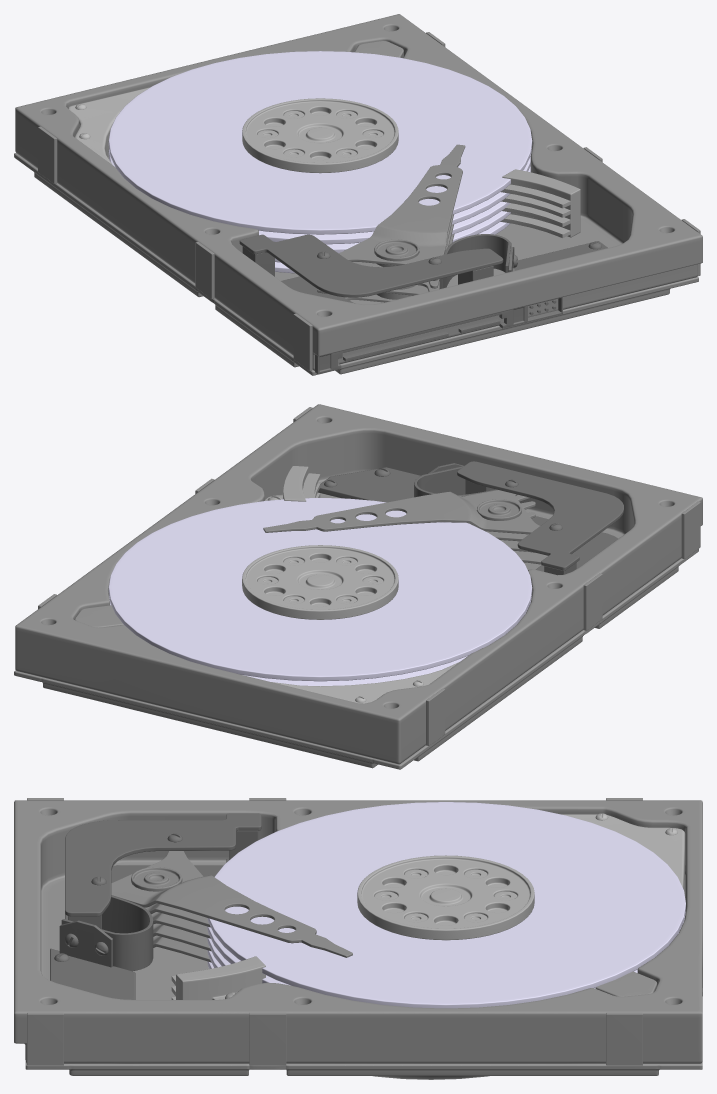
3 renders of one model, top to bottom at view 1: azimuth 30°, elevation 25°; view 2: azimuth 150°, elevation 25°; view 3: azimuth 270°, elevation 25°, orthographic. The views are drawn at different scales.
Parts seen in each view (by area): view 1: hard_drive_case_mesh, platter_mesh, ribbon_cable_mesh, spindle_mesh, actuator_arm_mesh, head_actuator_mesh, power_connector_mesh, actuator_mesh, actuator_axis_mesh; view 2: hard_drive_case_mesh, platter_mesh, ribbon_cable_mesh, spindle_mesh, actuator_arm_mesh, actuator_mesh, head_actuator_mesh, actuator_axis_mesh; view 3: hard_drive_case_mesh, platter_mesh, ribbon_cable_mesh, spindle_mesh, actuator_arm_mesh, head_actuator_mesh, actuator_mesh, actuator_axis_mesh.
Part boxes in pixels (x1,y1,x2,y2): hard_drive_case_mesh: (14,14,702,375); platter_mesh: (108,51,532,273); ribbon_cable_mesh: (239,234,607,303); spindle_mesh: (242,98,398,173); actuator_arm_mesh: (317,144,465,302); head_actuator_mesh: (500,169,580,238); power_connector_mesh: (314,297,562,373); actuator_mesh: (68,87,150,164); actuator_axis_mesh: (374,239,419,299); hard_drive_case_mesh: (14,404,702,769); platter_mesh: (108,497,532,686); ribbon_cable_mesh: (318,461,623,575); spindle_mesh: (242,545,398,619); actuator_arm_mesh: (263,490,546,569); actuator_mesh: (271,662,459,703); head_actuator_mesh: (264,465,320,501); actuator_axis_mesh: (476,499,521,520); hard_drive_case_mesh: (14,798,702,1079); platter_mesh: (207,802,685,1008); ribbon_cable_mesh: (50,813,261,999); spindle_mesh: (357,855,534,940); actuator_arm_mesh: (111,851,352,962); head_actuator_mesh: (171,956,265,999); actuator_mesh: (561,813,685,890); actuator_axis_mesh: (131,867,182,923).
Bounding box in the file's own units: 6.06 × 1.2 × 8.16.
